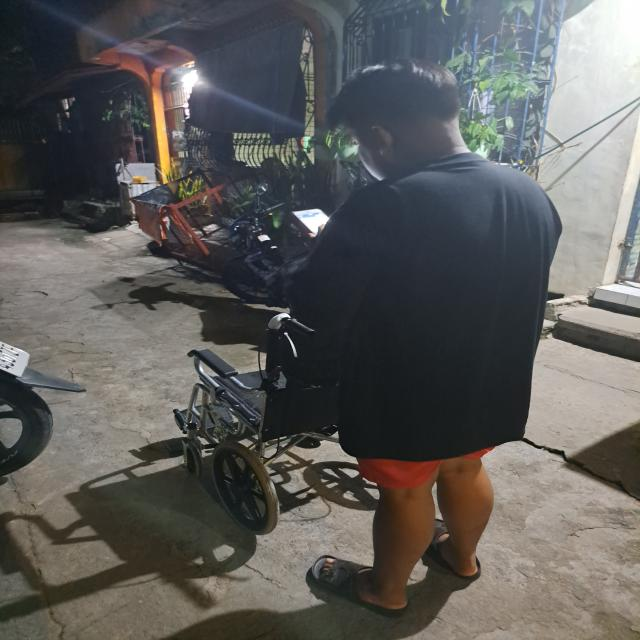wheelchairs: (158, 303, 442, 541)
